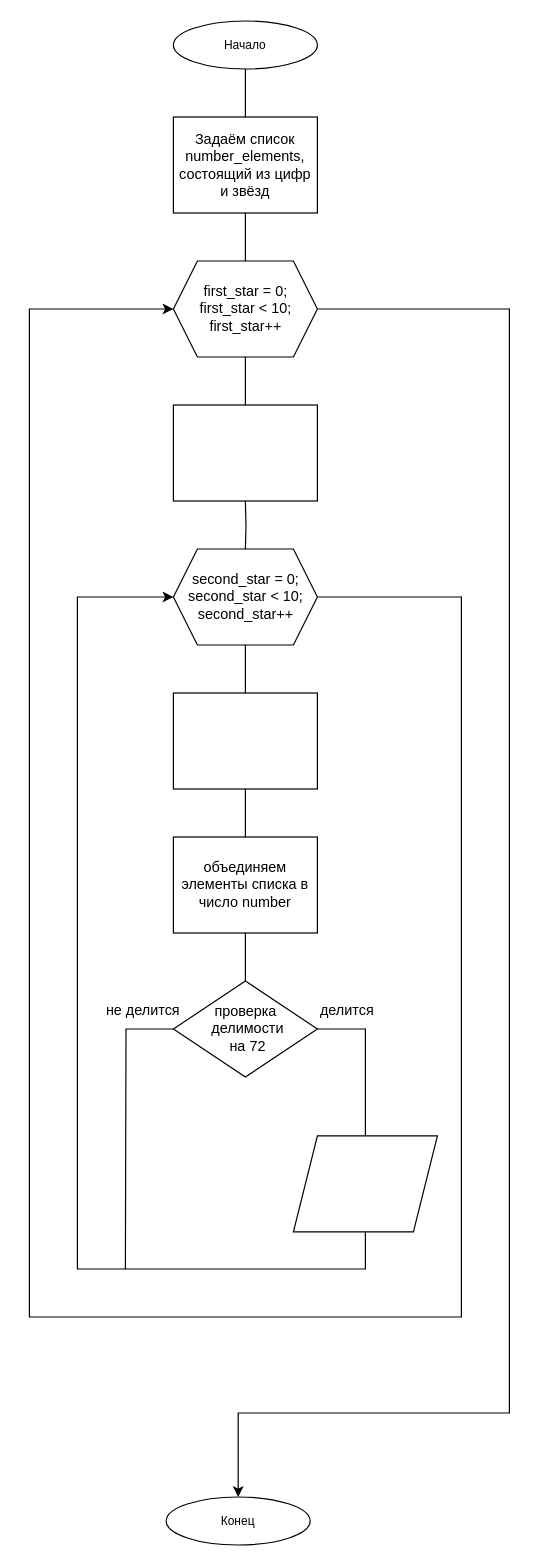
Image size: 540x1566. Some labels were removed from this diagram. Each missing label, with the centre of its shape:
Вывод number: (x=364, y=1183)
меняем вторую звезду в списке на second_star: (x=244, y=740)
меняем первую звезду в списке на first_star: (x=244, y=452)
